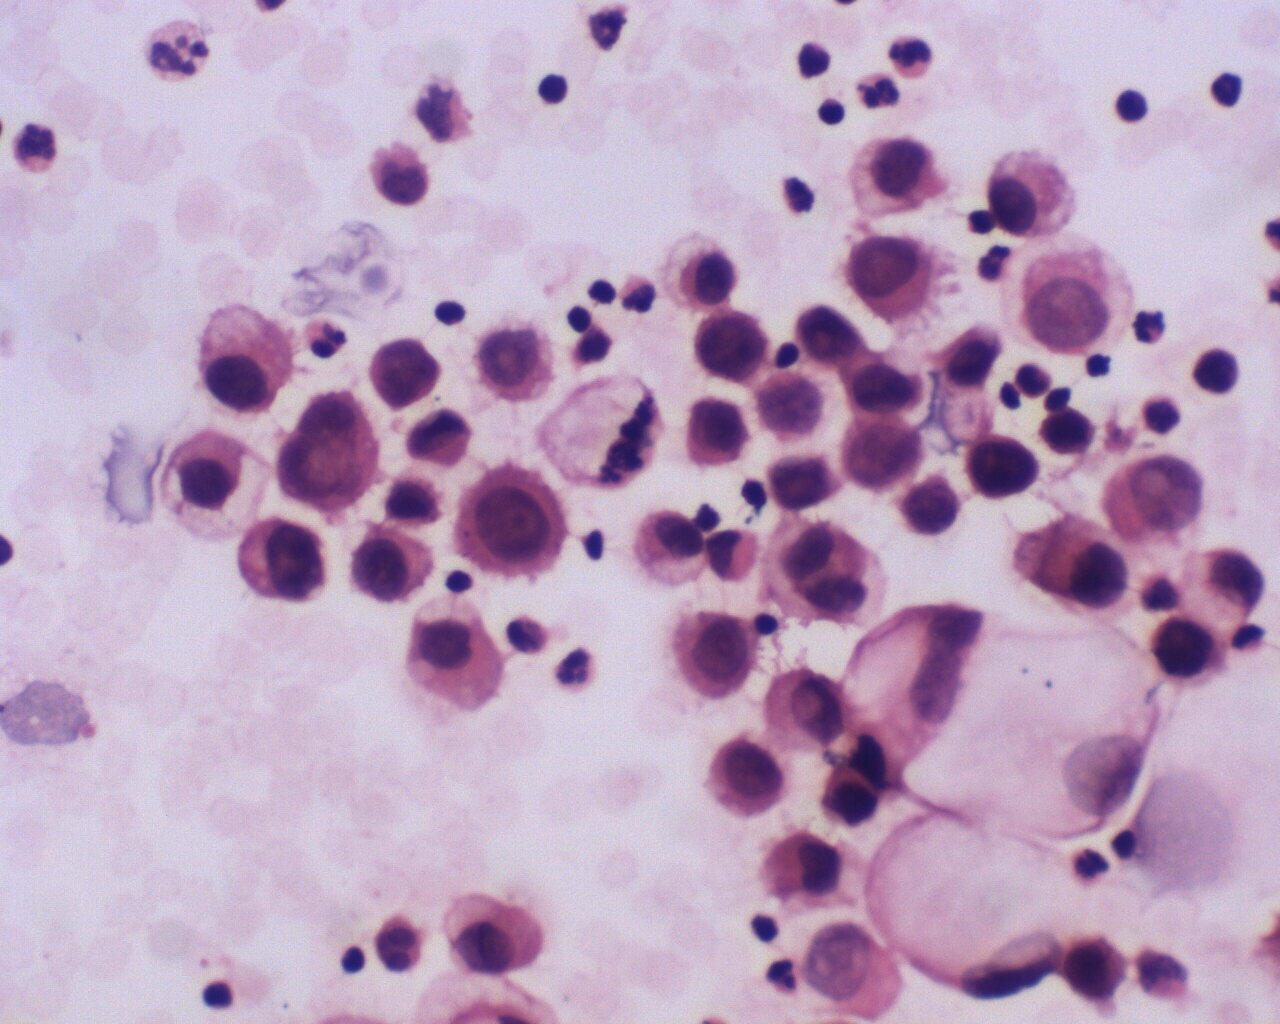ab: (1000, 233, 1142, 356), (274, 389, 383, 519), (455, 462, 568, 580), (235, 507, 333, 609), (844, 223, 941, 322), (1104, 452, 1205, 542), (674, 600, 760, 703), (838, 410, 935, 495), (706, 731, 794, 824), (350, 523, 437, 609), (472, 321, 560, 403), (367, 331, 448, 414), (694, 301, 768, 381), (971, 423, 1041, 505), (1062, 933, 1130, 1013), (685, 397, 752, 471), (675, 245, 744, 310)
histo: (865, 812, 1080, 1000)
lymph: (534, 65, 577, 109), (1115, 84, 1154, 127), (814, 96, 850, 131)
meso: (194, 301, 300, 421)
neutro: (550, 638, 598, 696), (887, 34, 938, 83), (304, 316, 353, 362), (1127, 303, 1173, 350), (763, 955, 802, 996)
